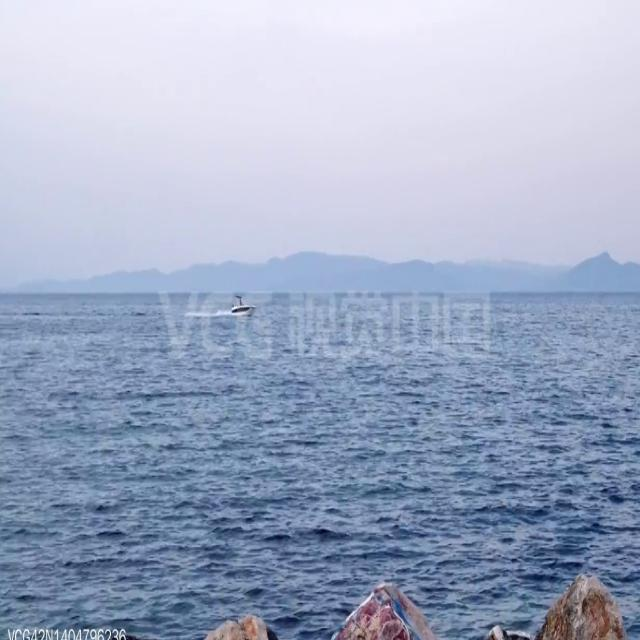houseboat: (228, 289, 256, 315)
